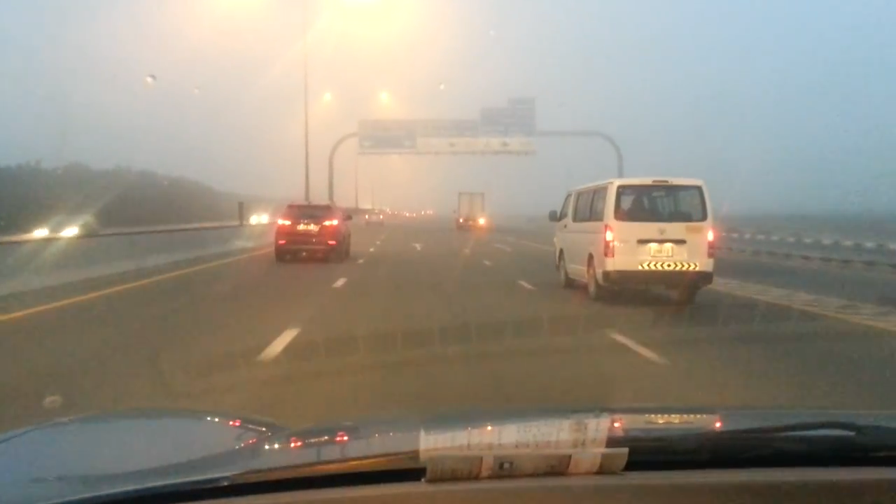bus: (543, 176, 717, 304), (452, 189, 490, 232)
car: (270, 200, 353, 262), (30, 212, 103, 250), (362, 207, 386, 227)
